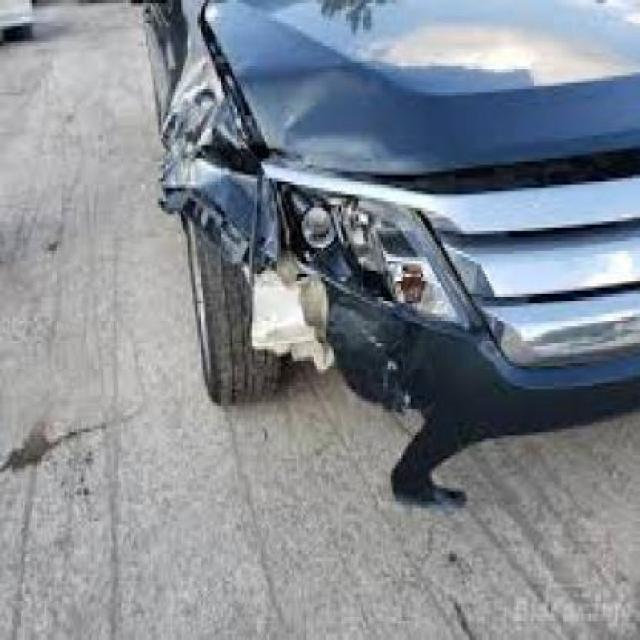damaged-front-bumper: (232, 268, 638, 432)
